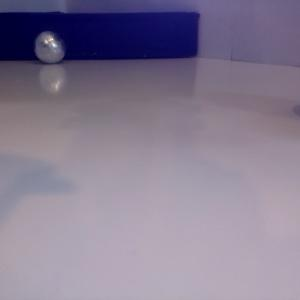zone: (1, 10, 201, 59)
